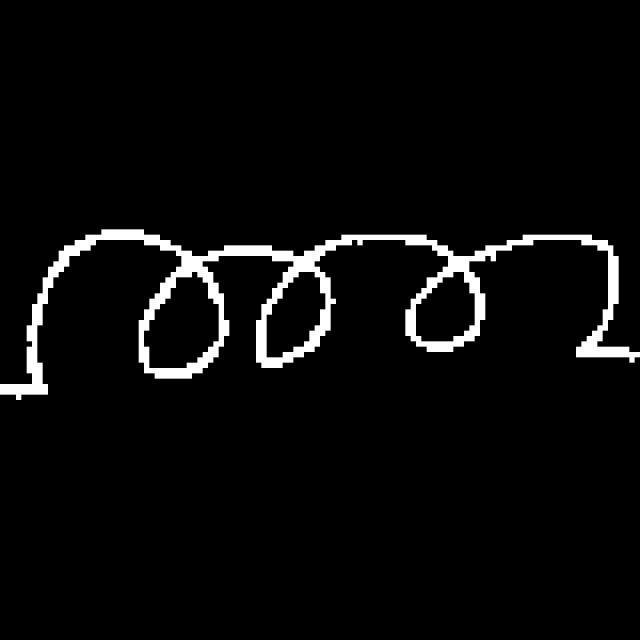inductor: (24, 210, 629, 423)
